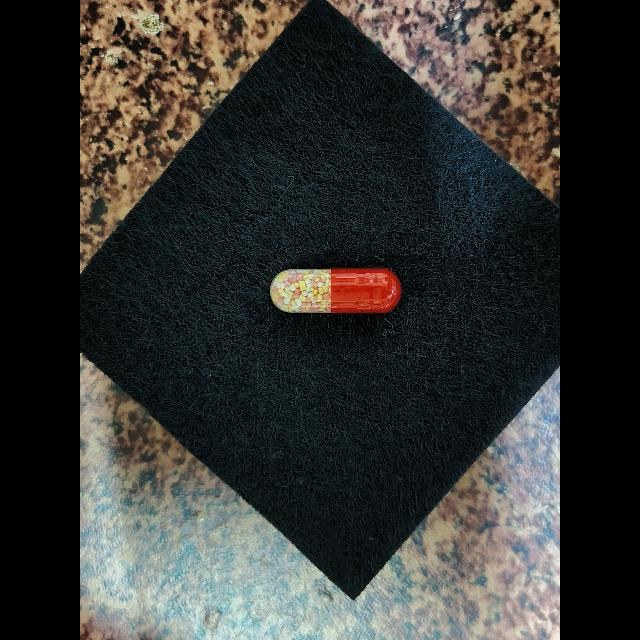Intact Capsule: (270, 268, 402, 312)
